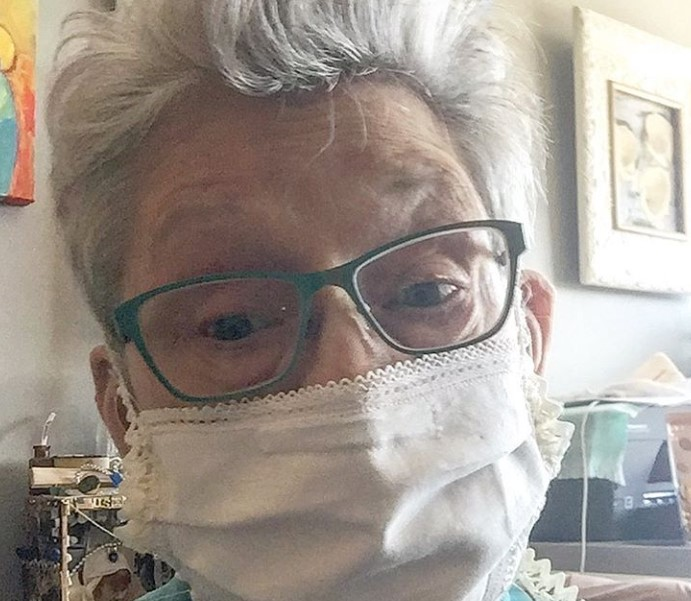face_with_mask: (68, 4, 572, 601)
